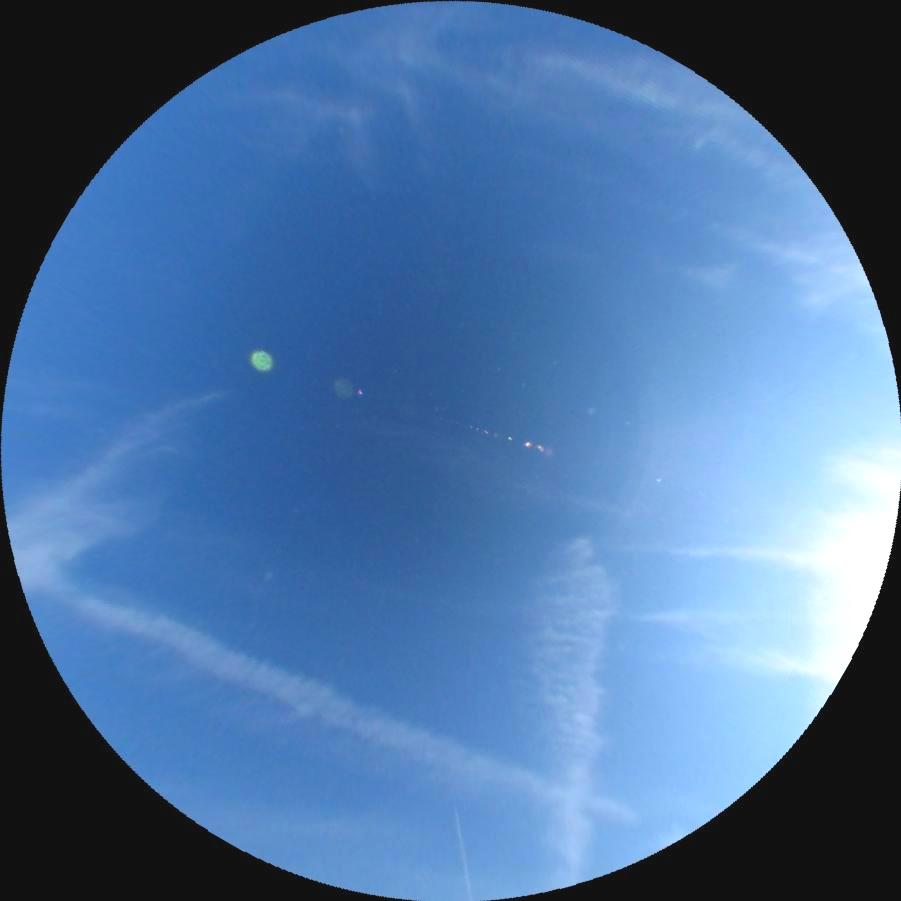contrail veryold: (56, 572, 635, 844), (797, 433, 899, 716), (542, 534, 623, 890)
contrail young: (449, 805, 473, 901)
